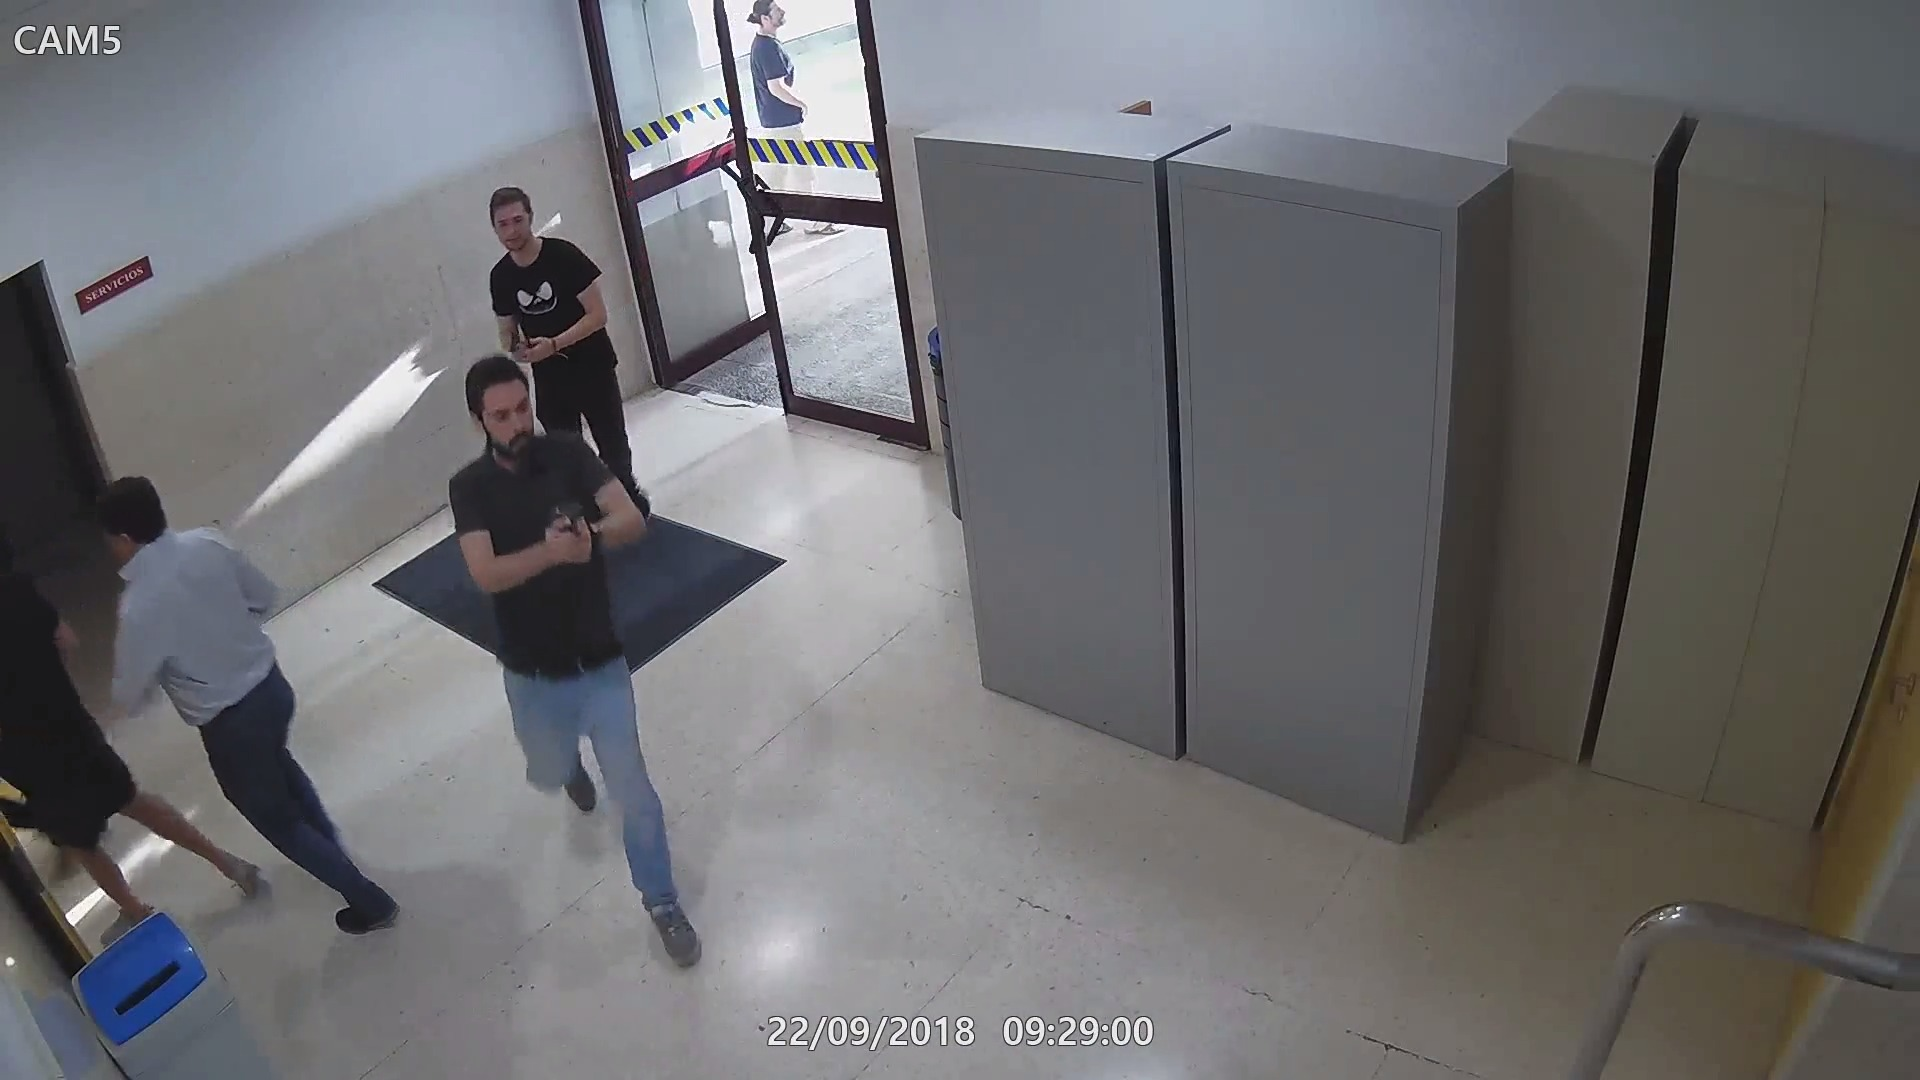Handgun: (541, 498, 597, 549), (497, 331, 538, 367)
